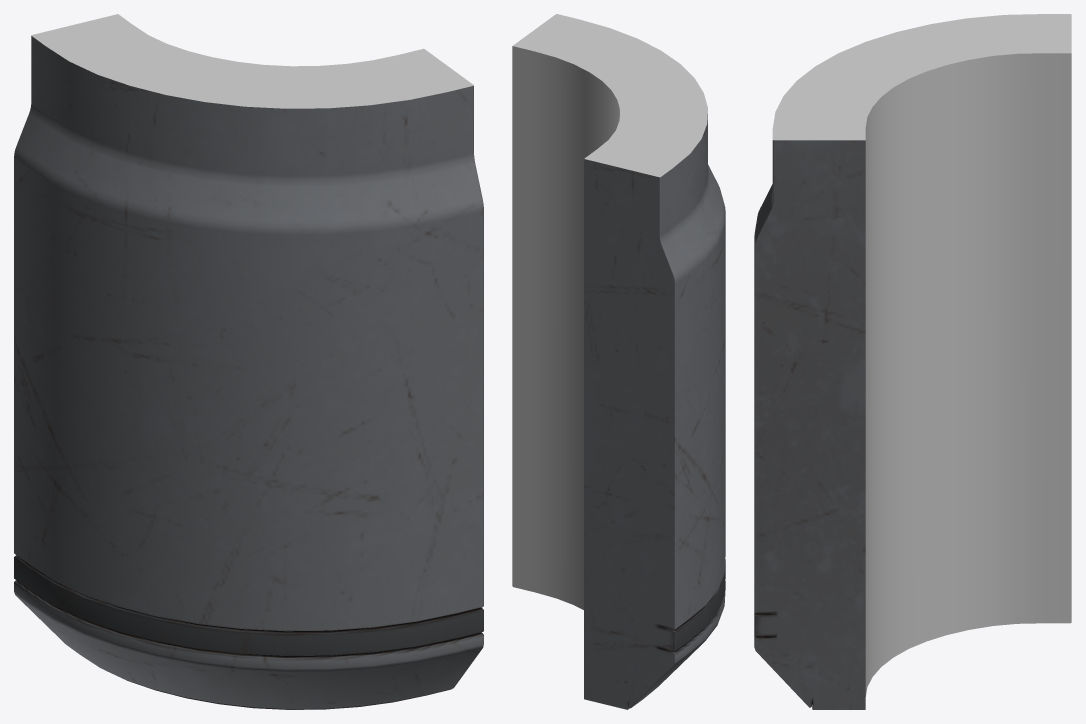
The model's file is SM_HangarWall05.fbx.
3 views of the same model, side by side, from view 1: azimuth 30°, elevation 25°; view 2: azimuth 150°, elevation 25°; view 3: azimuth 270°, elevation 25° (orthographic). The views are drawn at different scales.
Parts seen in each view (by area): view 1: SM_HangarWall05_LOD0; view 2: SM_HangarWall05_LOD0; view 3: SM_HangarWall05_LOD0.
Part boxes in pixels (bbox=[...]): SM_HangarWall05_LOD0: bbox=[14, 14, 483, 709]; SM_HangarWall05_LOD0: bbox=[512, 14, 725, 709]; SM_HangarWall05_LOD0: bbox=[754, 14, 1071, 709].
Size of the model in its own units: 200 by 200 by 397.
2 materials, 1 textured.
